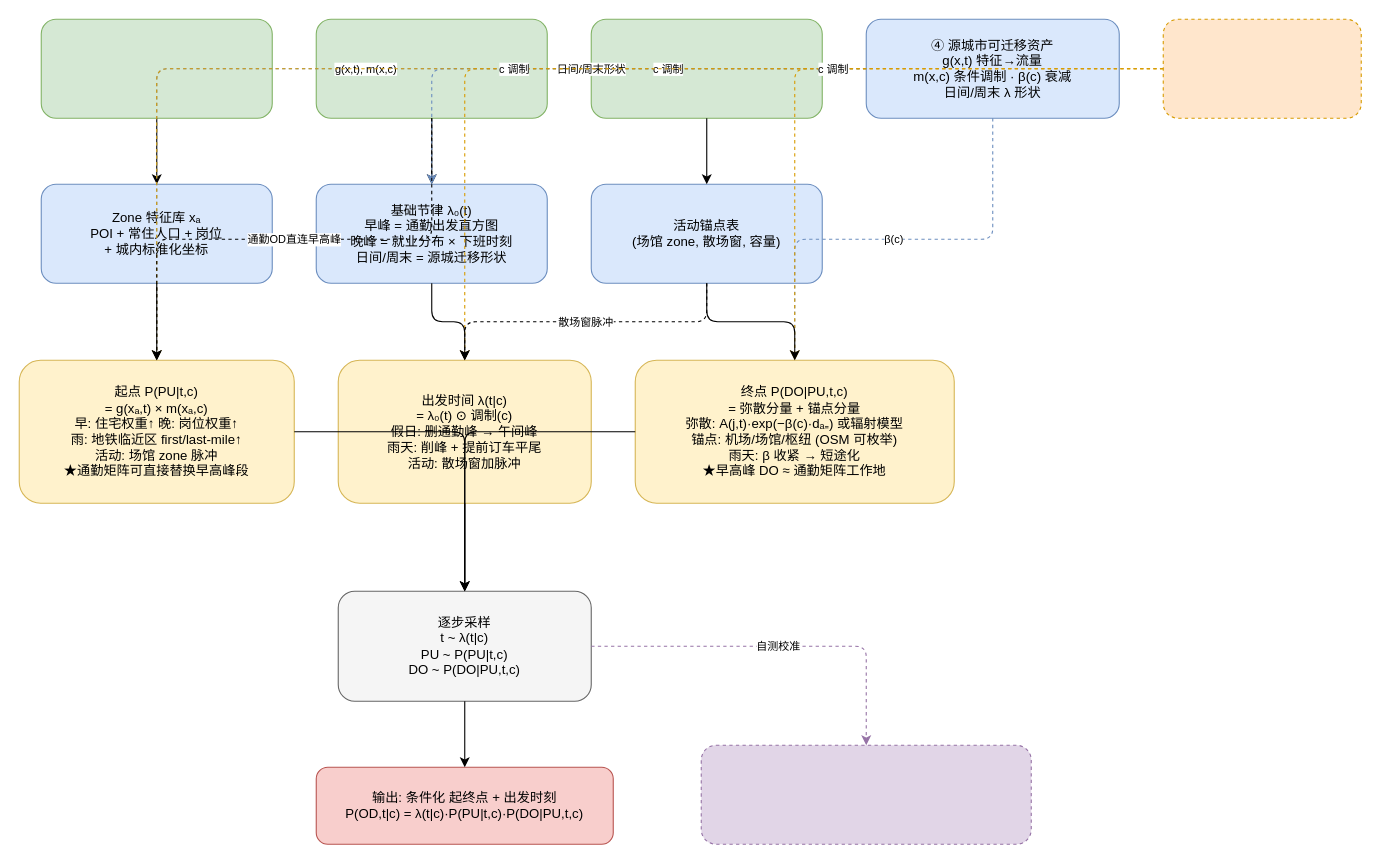
This 1381x864 diagram has some shape labels left out. Here are the shapes that lost their labels. From the top down, the box of each, then its label:
(40, 18, 272, 118): ① OSM 免费数据 POI 分布 · 路网 · 场馆 机场 · 地铁站
(315, 18, 547, 118): ② 普查通勤数据 出发上班时间直方图 + 居住→工作 OD 矩阵
(590, 18, 822, 118): ③ 活动日历 场馆 · 开/散场时间 · 容量
(1162, 18, 1361, 118): 外生条件 c 天气 · 假日 · 活动
(700, 744, 1031, 844): 验证: 伪新城市实验(留一城) NYC 只用 ①②③ 预测 → 对比真实 TLC 误差 ≈ 零数据方案跨城置信区间
